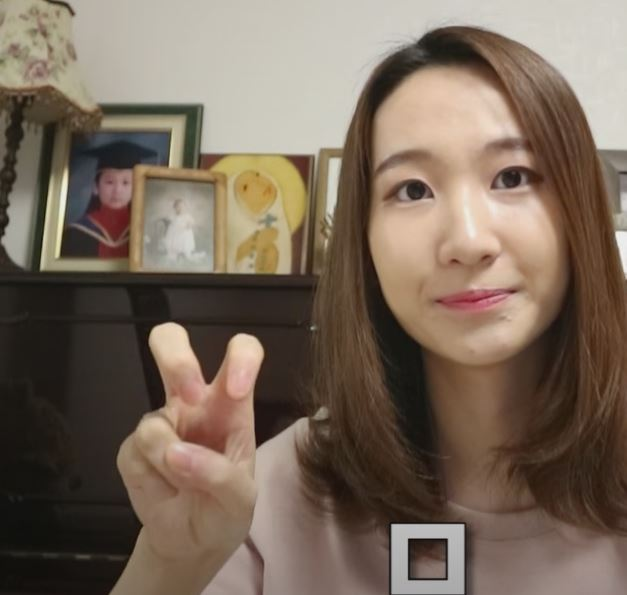미음: (72, 308, 301, 588)
